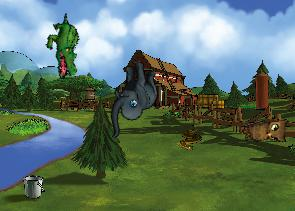crocodile: (36, 12, 93, 81)
elephant: (97, 58, 166, 138)
owl: (240, 113, 293, 154)
